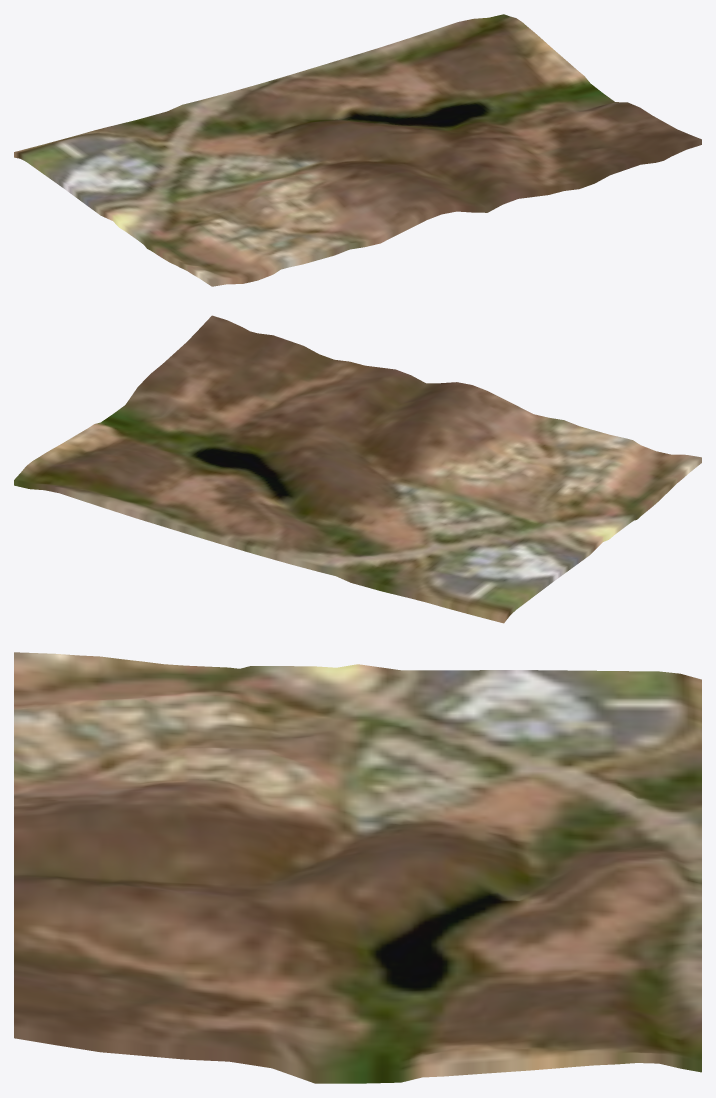
Rendered from terrain_r6_c5_lod2.glb.
The picture shows the model from 3 angles, top to bottom: view 1: azimuth 30°, elevation 25°; view 2: azimuth 150°, elevation 25°; view 3: azimuth 270°, elevation 25°; orthographic projection. The views are drawn at different scales.
Visible parts, largest first — view 1: terrain_r6_c5_lod2; view 2: terrain_r6_c5_lod2; view 3: terrain_r6_c5_lod2.
Part boxes in pixels (box(x1,y1,x2,y2)): terrain_r6_c5_lod2: box(14, 14, 701, 286); terrain_r6_c5_lod2: box(14, 315, 701, 623); terrain_r6_c5_lod2: box(14, 652, 701, 1083).
Bounding box in the file's own units: 1125 × 95.59 × 787.
Materials: 1 (1 with a texture image).
